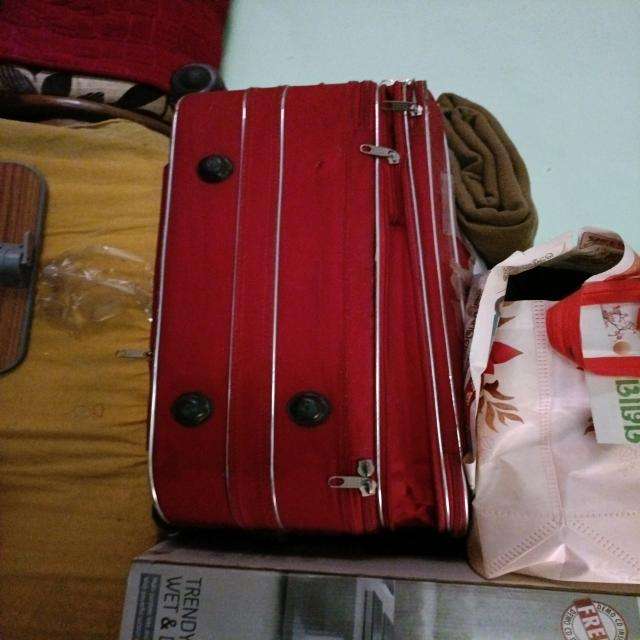suitcaserotation: (141, 75, 481, 551)
